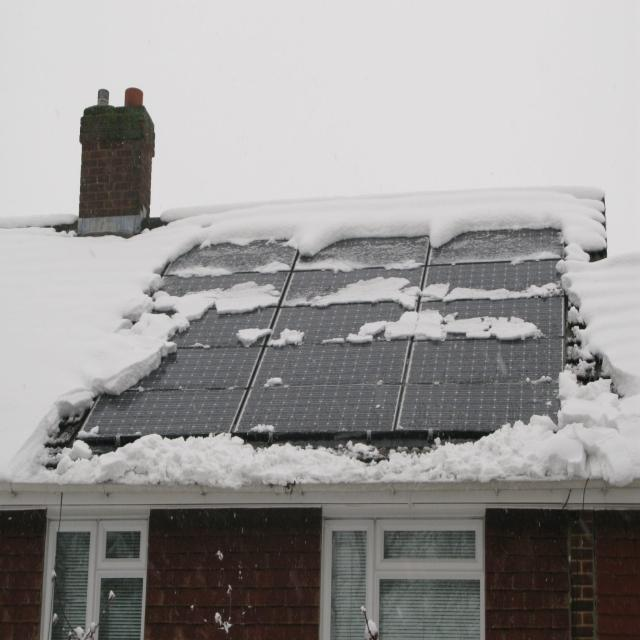snow covered: (118, 230, 557, 434)
